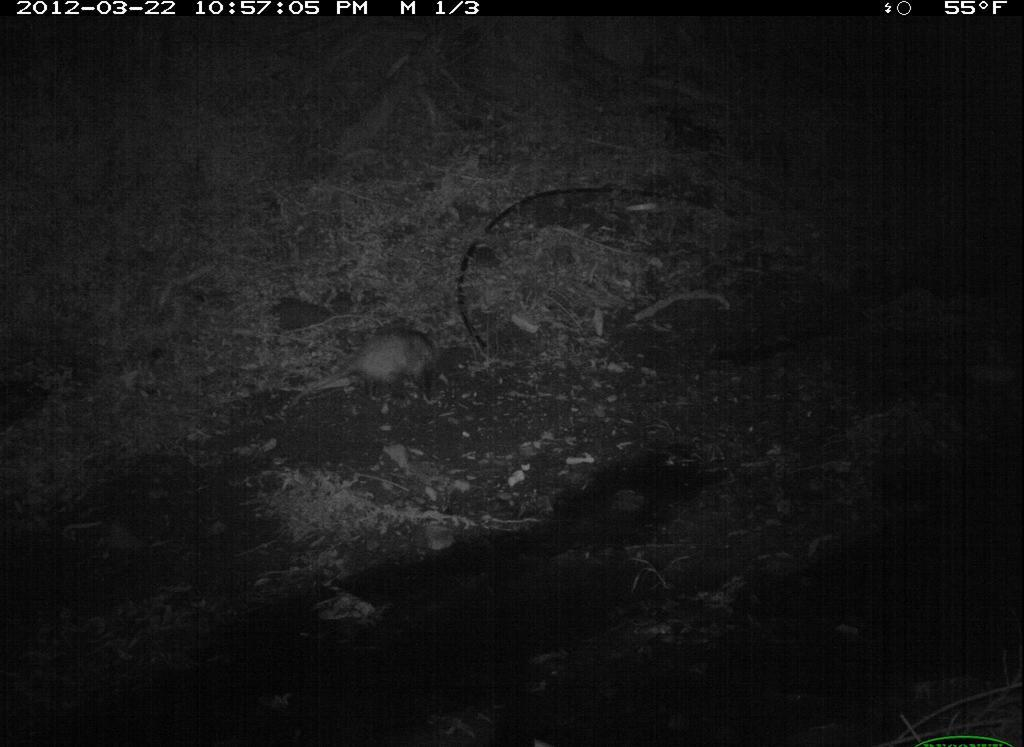opossum: (260, 318, 456, 420)
